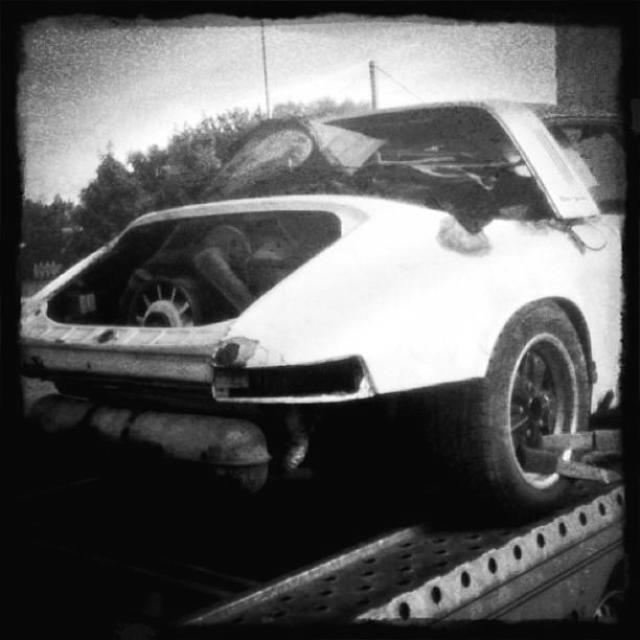Rear-windscreen-Damage: (206, 112, 542, 222)
